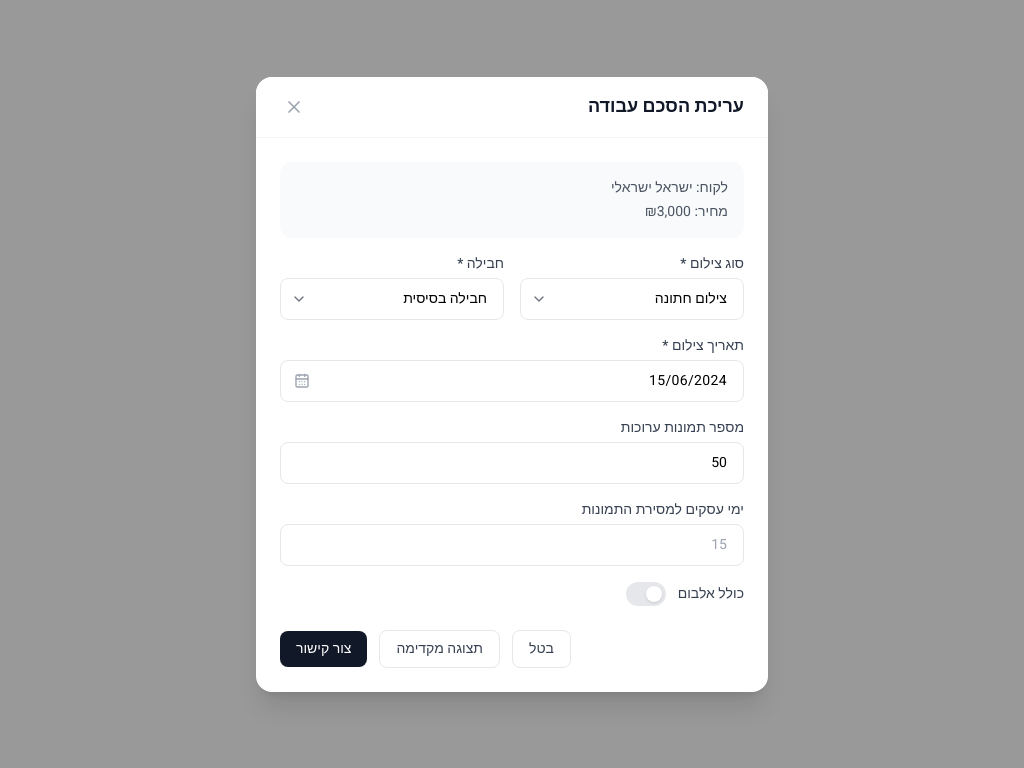
Test: AgreementEditorModal › album toggle shows album fields when toggled on
Check: the field with placeholder "30x30" is not shown
// Toggle on
Click the switch named "החלף כולל אלבום" at x=646, y=594, box [626,582,666,606]
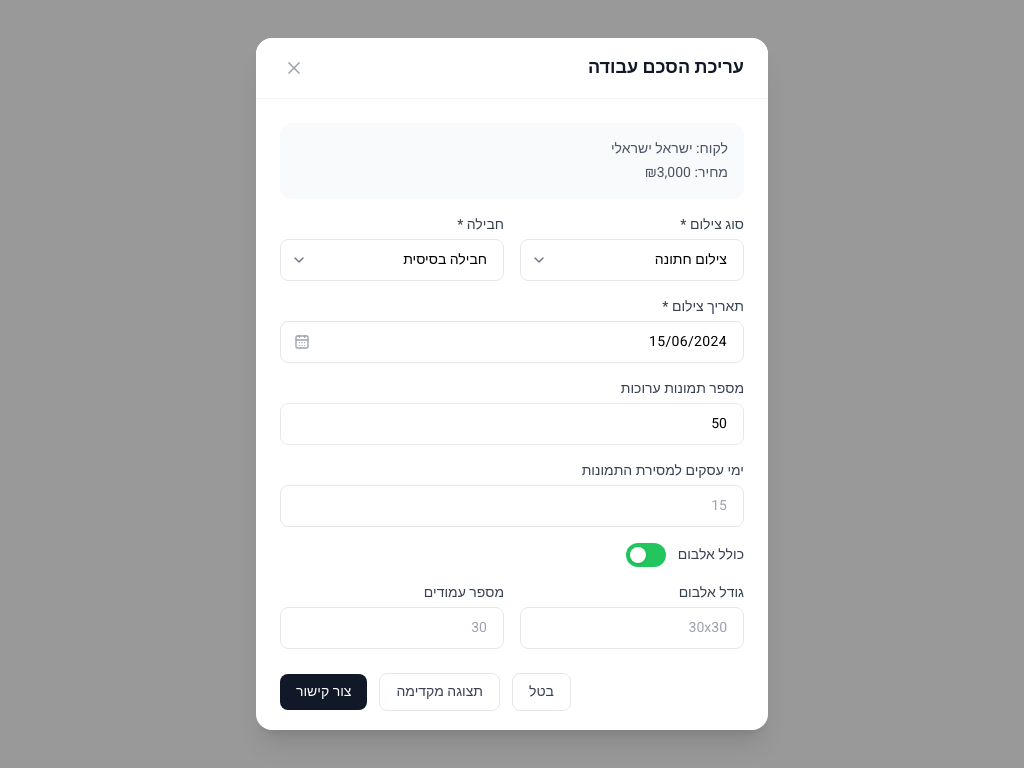
Check: the field with placeholder "30x30" is shown, box [520,607,744,649]
